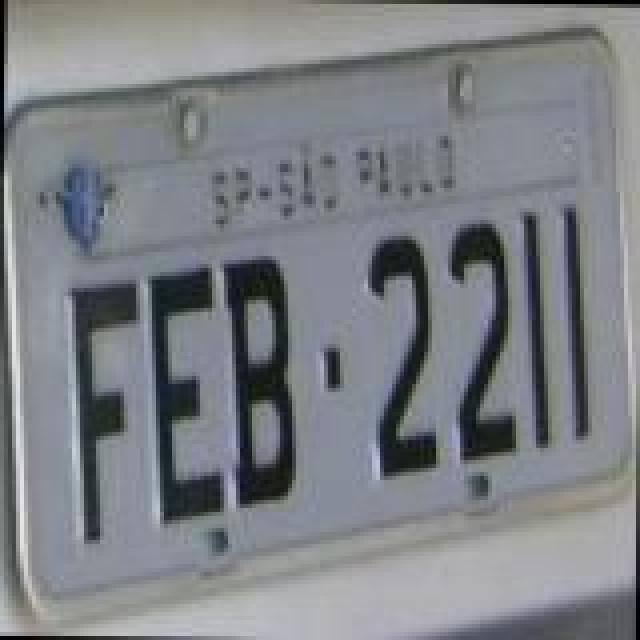1: (514, 206, 558, 450), (554, 204, 598, 444)
2: (360, 234, 440, 486), (442, 220, 518, 468)
B: (218, 252, 302, 508)
E: (140, 262, 228, 530)
F: (66, 272, 142, 544)
